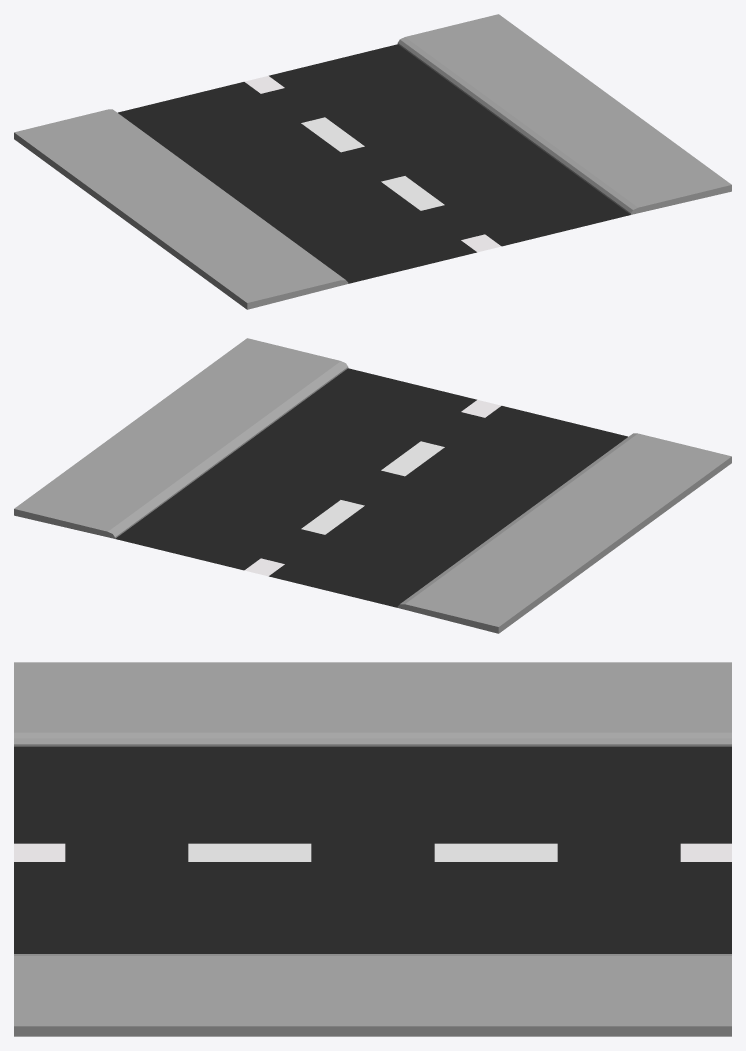
Rendered from road.glb.
The picture shows the model from 3 angles, top to bottom: view 1: azimuth 30°, elevation 25°; view 2: azimuth 150°, elevation 25°; view 3: azimuth 270°, elevation 25°; orthographic projection. The views are drawn at different scales.
Visible parts, largest first — view 1: Object_320; view 2: Object_320; view 3: Object_320.
Part boxes in pixels (left/top/right/bottom): Object_320: left=14, top=14, right=731, bottom=309; Object_320: left=14, top=338, right=731, bottom=633; Object_320: left=14, top=662, right=731, bottom=1036.
Size of the model in its own units: 12 by 0.16 by 10.
Materials: 1 (1 with a texture image).
